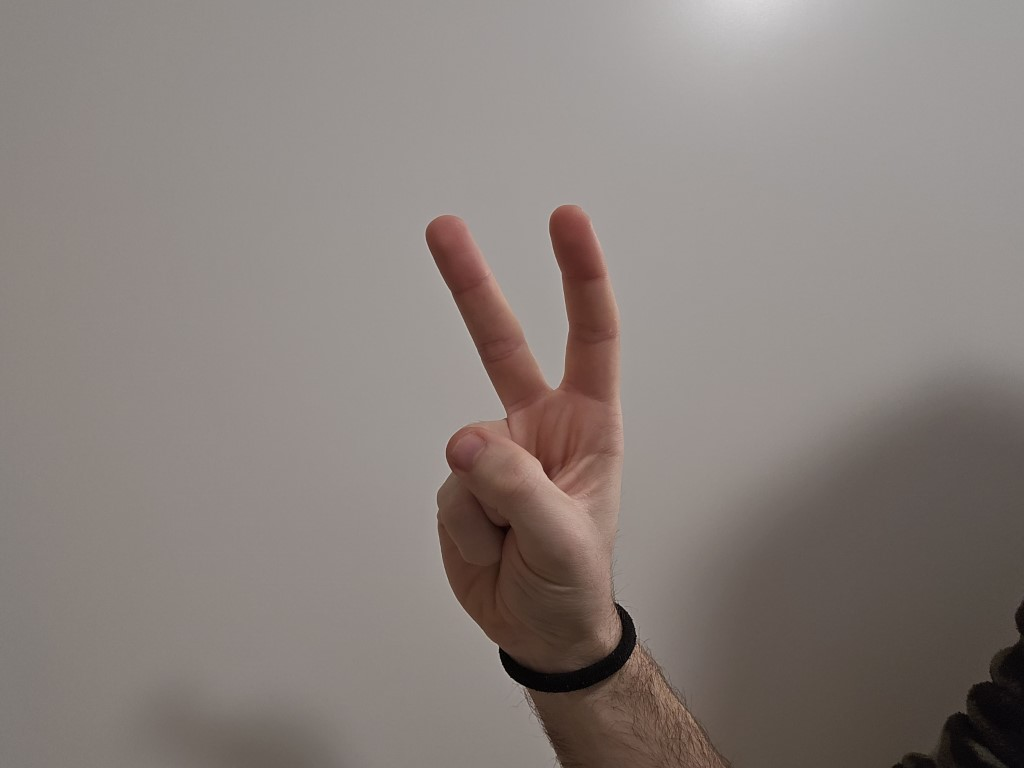v: (363, 195, 666, 655)
